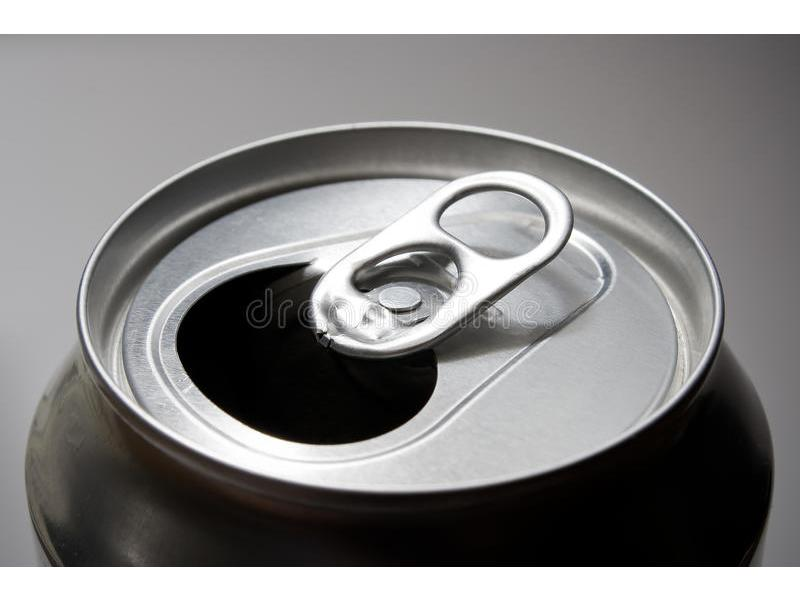can: (16, 78, 787, 562)
